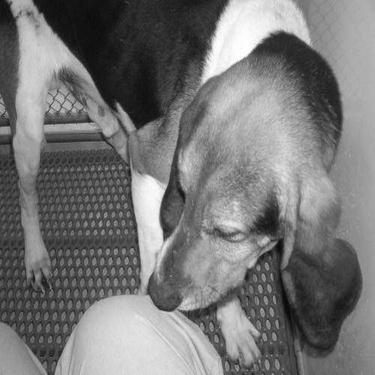dog: (1, 3, 368, 371)
